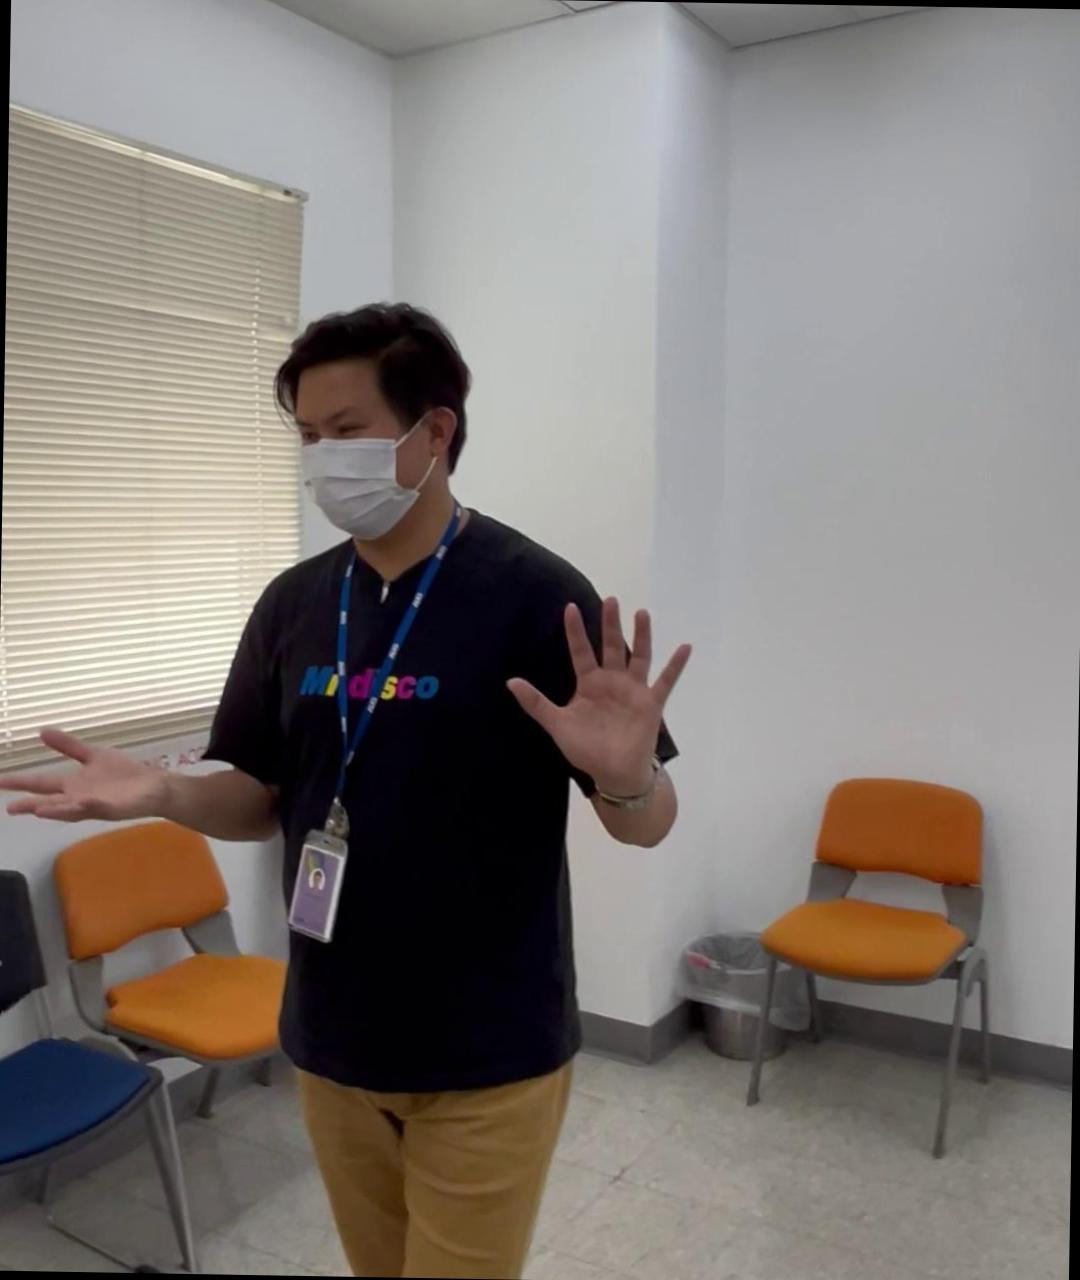No-gloves: (499, 584, 693, 786), (0, 717, 165, 830)
